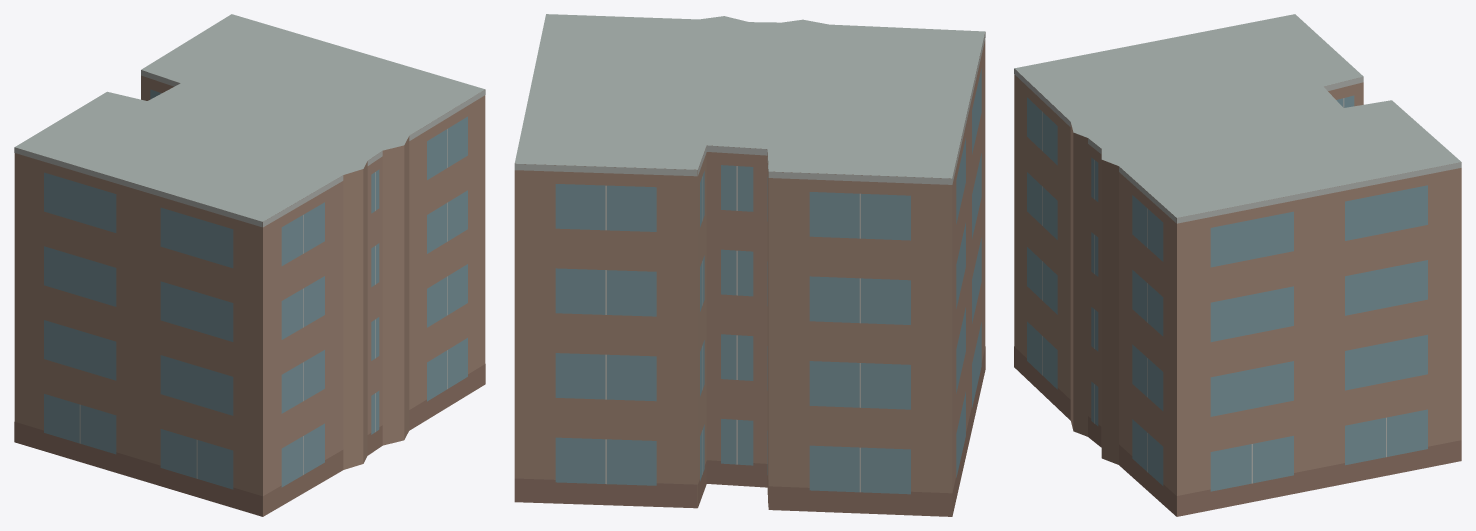
File: survey-upis-32731785.glb
3 views of the same model, side by side, from view 1: azimuth 30°, elevation 25°; view 2: azimuth 150°, elevation 25°; view 3: azimuth 270°, elevation 25° (orthographic). The views are drawn at different scales.
Parts seen in each view (by area): view 1: survey-upis-32731785.tmp; view 2: survey-upis-32731785.tmp; view 3: survey-upis-32731785.tmp.
Part boxes in pixels (x1,y1,x2,y2): survey-upis-32731785.tmp: [14, 14, 485, 516]; survey-upis-32731785.tmp: [514, 14, 985, 516]; survey-upis-32731785.tmp: [1014, 14, 1461, 516].
Bounding box in the file's own units: 18.74 × 12.8 × 17.38.
